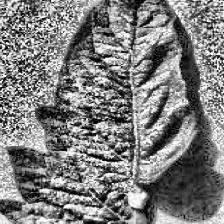spider mites: (0, 0, 193, 224)
